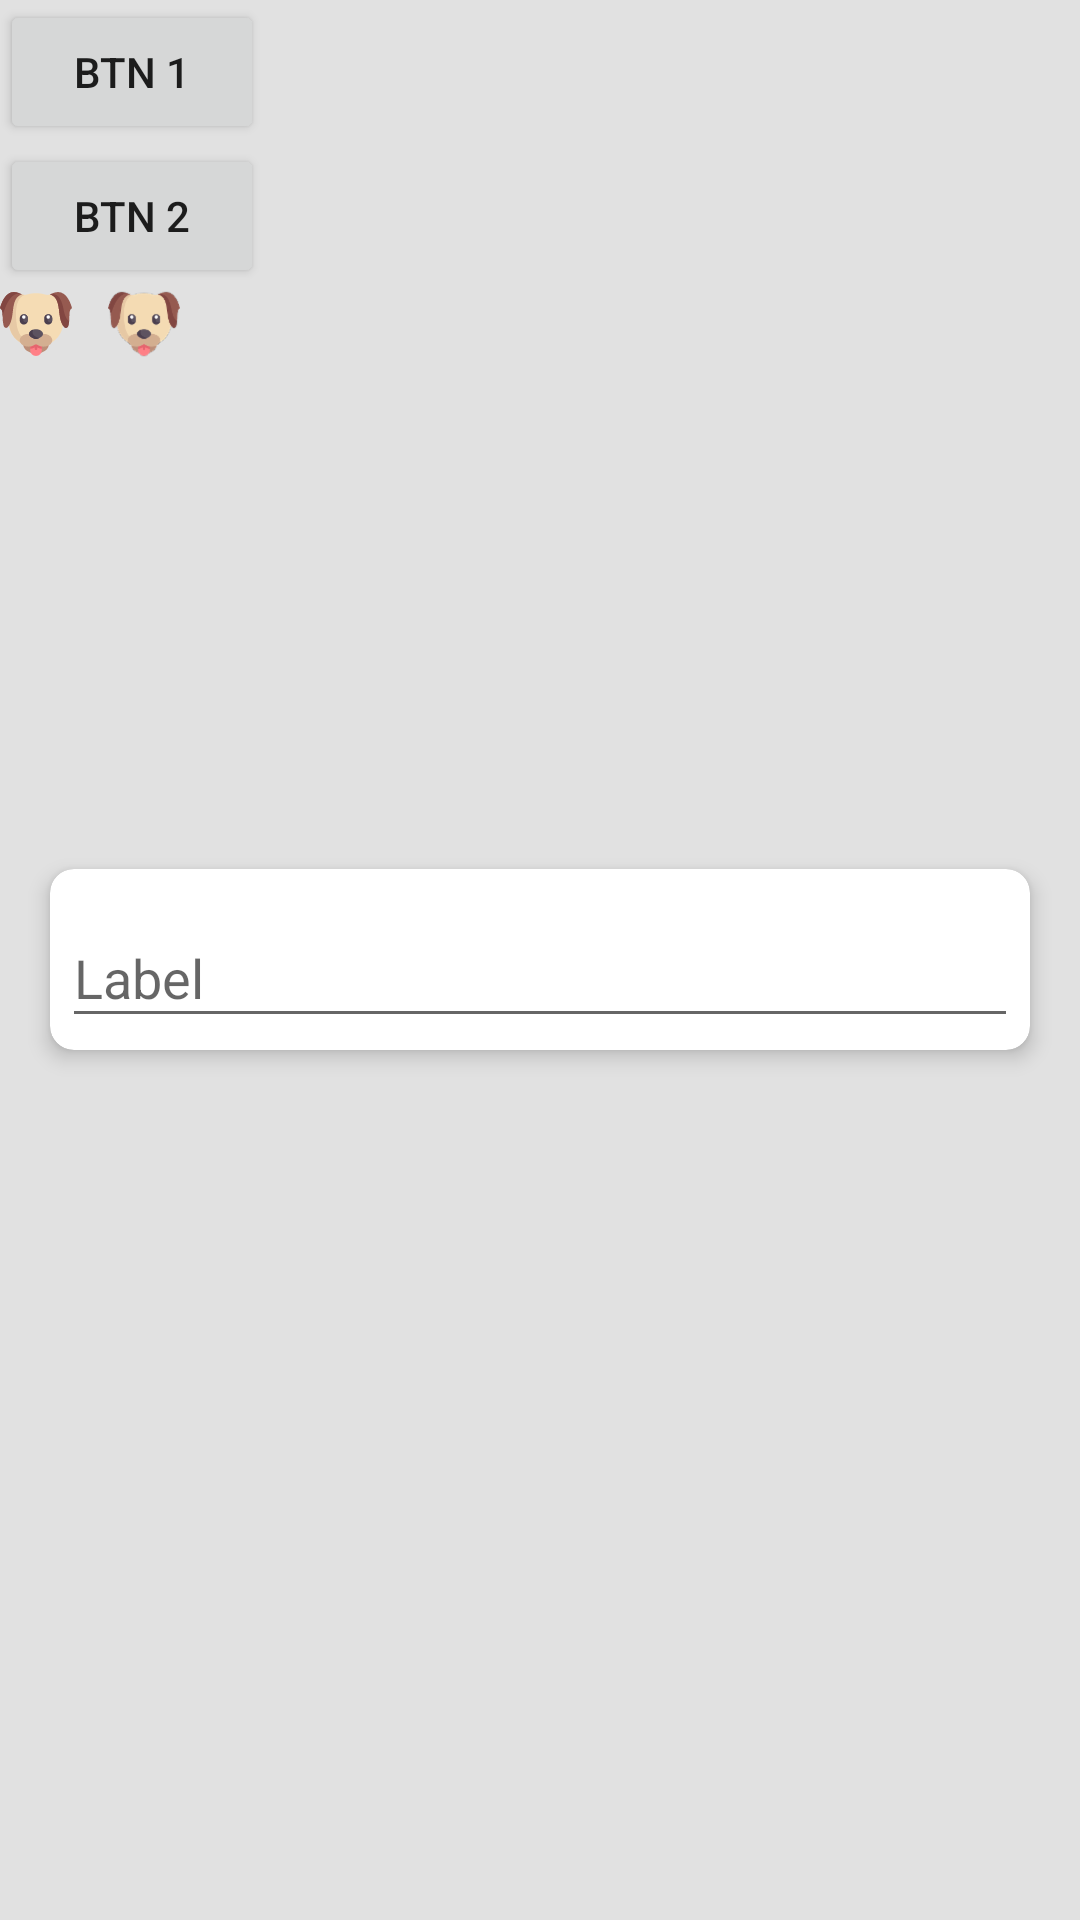

Where to tap for icons on this 1080*1920 app screen, as (x=x, y=y):
dog: (x=36, y=324), (x=144, y=324)
